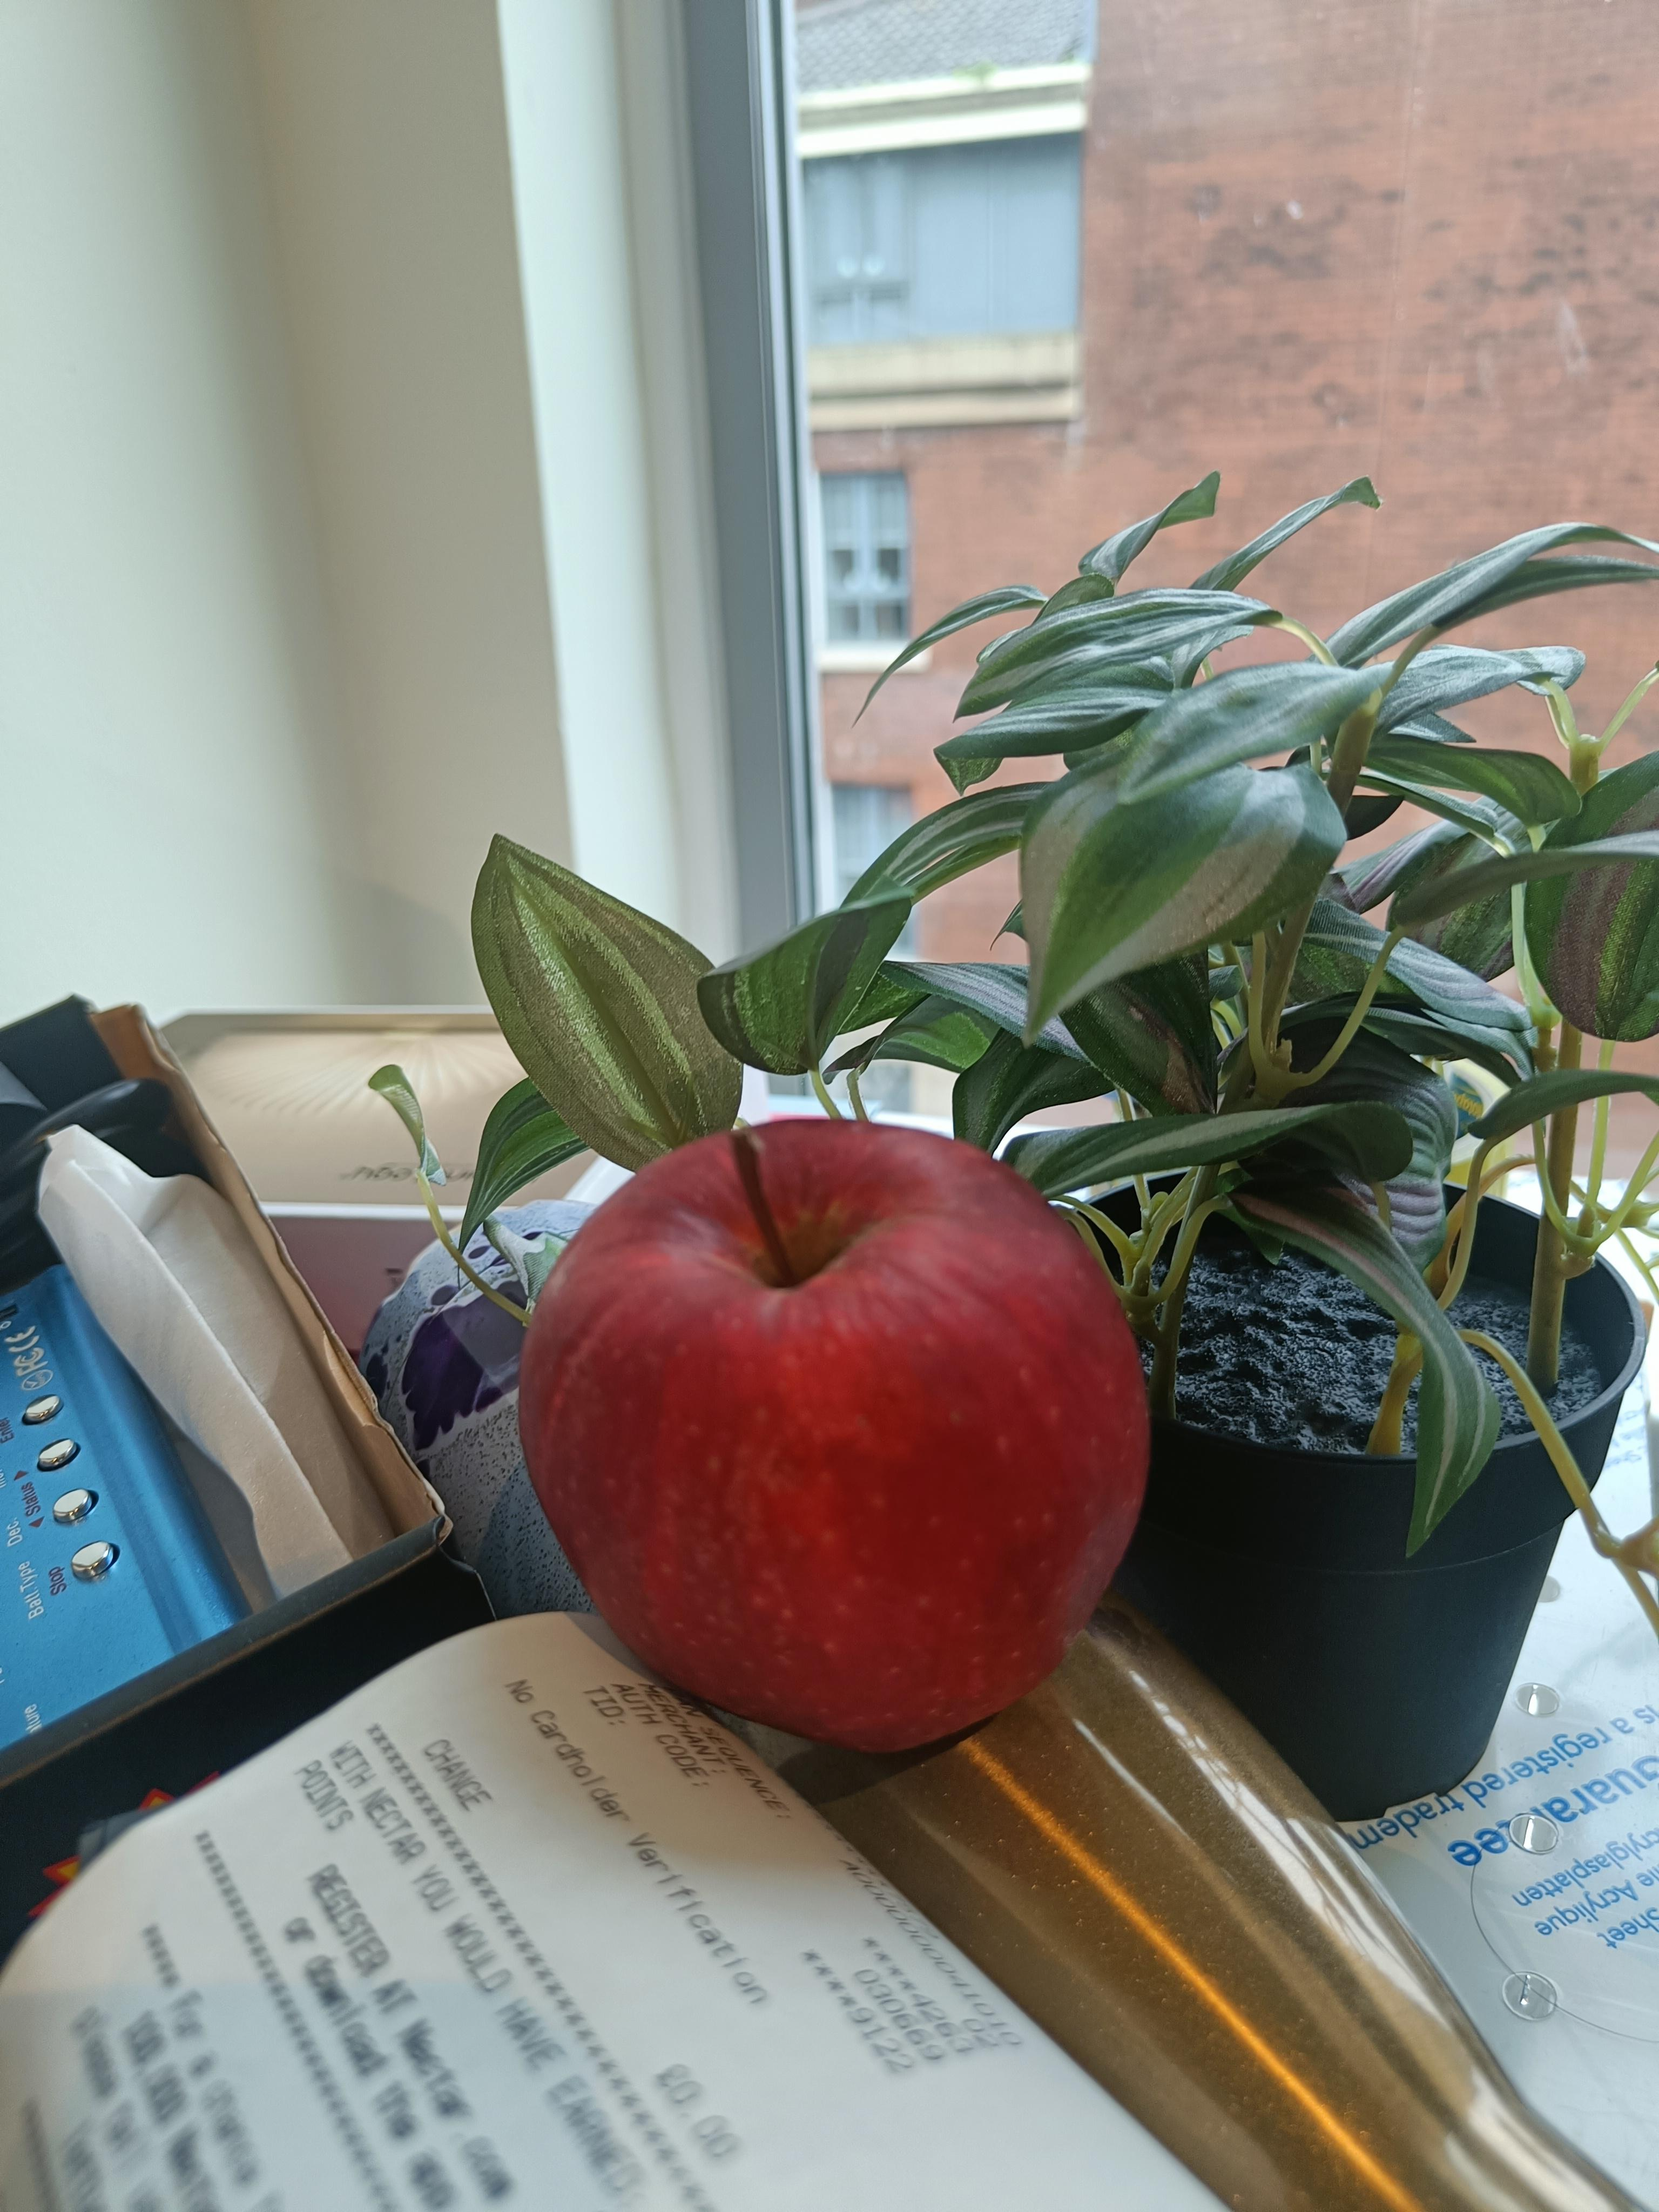Apple: (530, 1104, 1155, 1763)
